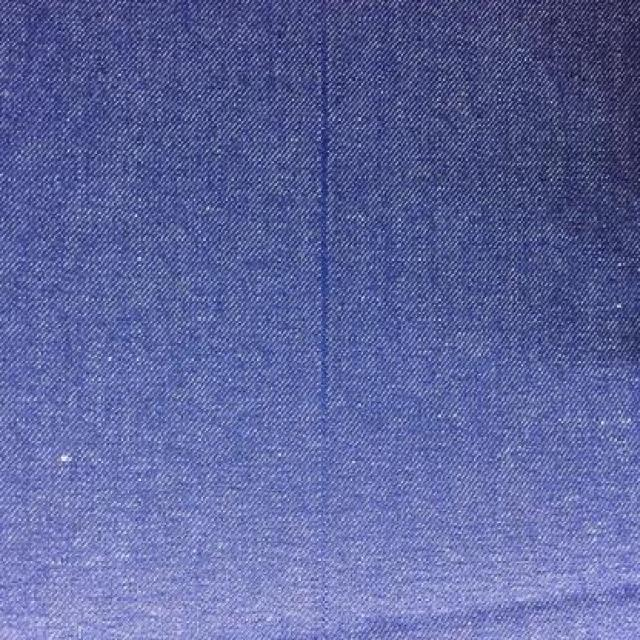pulled_or_thick_thread: (320, 30, 329, 435)
